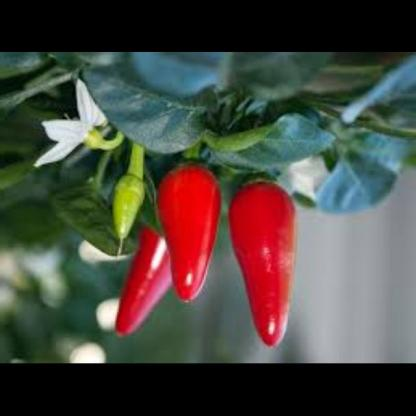hot pepper: (226, 171, 298, 357), (155, 157, 221, 310), (112, 226, 174, 339), (98, 172, 155, 242)
